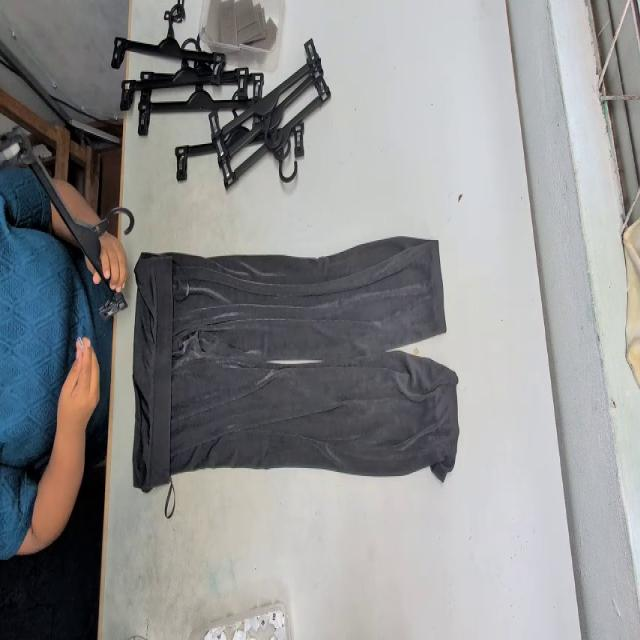new-garment: (133, 237, 459, 489)
